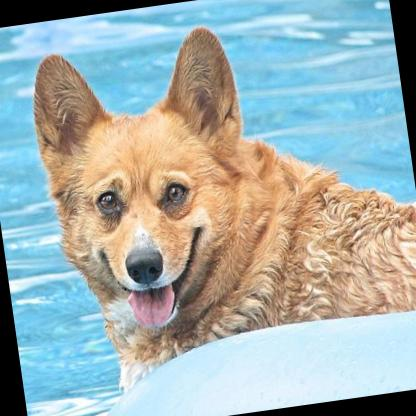Pembroke: (19, 0, 416, 396)
